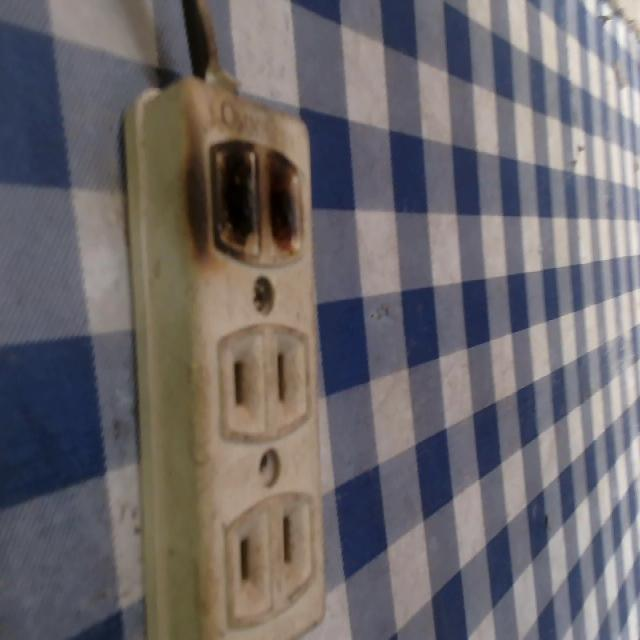-: (190, 126, 315, 270)
